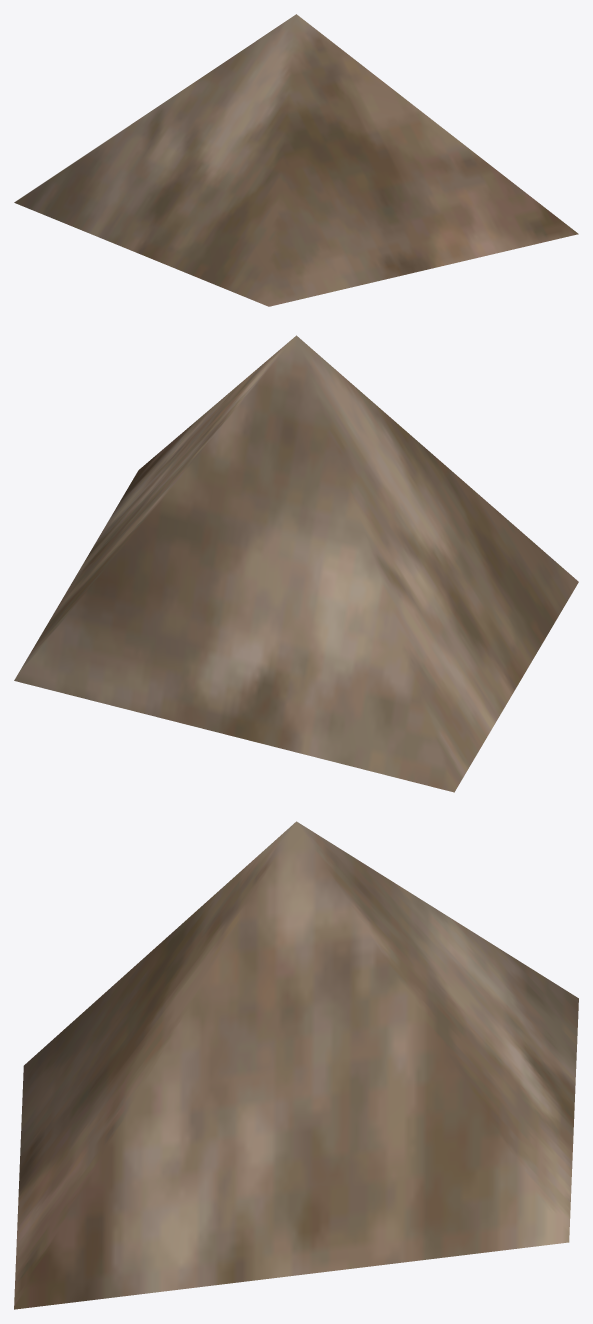
File: OVERHILL_A_01_PLANE16.fbx
3 renders of one model, top to bottom at view 1: azimuth 30°, elevation 25°; view 2: azimuth 150°, elevation 25°; view 3: azimuth 270°, elevation 25°, orthographic. The views are drawn at different scales.
Visible parts, largest first — view 1: OVERHILL_A_01_PLANE16; view 2: OVERHILL_A_01_PLANE16; view 3: OVERHILL_A_01_PLANE16.
Part boxes in pixels (x1,y1,x2,y2): OVERHILL_A_01_PLANE16: [14, 14, 578, 306]; OVERHILL_A_01_PLANE16: [14, 335, 578, 792]; OVERHILL_A_01_PLANE16: [14, 821, 578, 1309].
Size of the model in its own units: 1263 by 630 by 969.
Materials: 1 (1 with a texture image).
